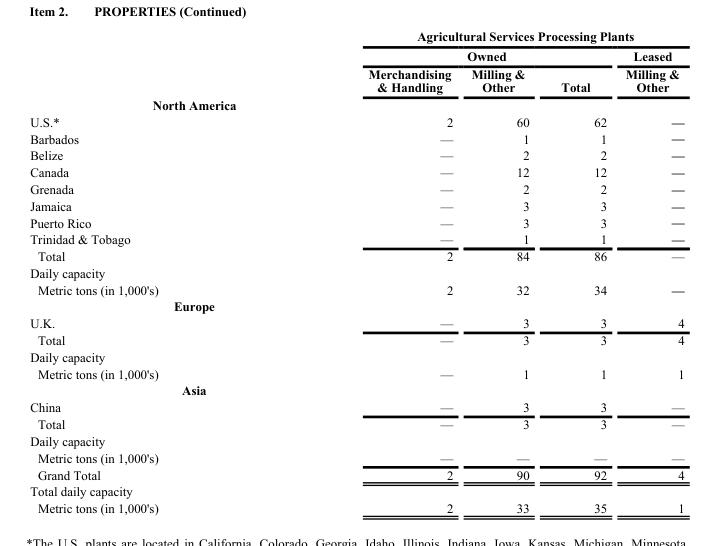table: (29, 28, 683, 514)
table column: (29, 28, 262, 514), (262, 28, 461, 514), (461, 28, 544, 514), (544, 28, 615, 514), (615, 28, 683, 514)
table column header: (29, 28, 683, 95)
table projected row header: (29, 95, 683, 112), (29, 297, 683, 314), (29, 381, 683, 398), (29, 482, 683, 499), (29, 264, 683, 280), (29, 348, 683, 364), (29, 432, 683, 448)
table row: (29, 64, 683, 95), (29, 45, 683, 64), (29, 28, 683, 45), (29, 95, 683, 112), (29, 112, 683, 129), (29, 129, 683, 146), (29, 146, 683, 163), (29, 163, 683, 180), (29, 196, 683, 213), (29, 213, 683, 230), (29, 230, 683, 247), (29, 247, 683, 264), (29, 280, 683, 297), (29, 297, 683, 314), (29, 314, 683, 331), (29, 331, 683, 348), (29, 364, 683, 381), (29, 381, 683, 398), (29, 398, 683, 415), (29, 415, 683, 432), (29, 448, 683, 465), (29, 465, 683, 482), (29, 482, 683, 499), (29, 180, 683, 196), (29, 264, 683, 280), (29, 348, 683, 364), (29, 432, 683, 448), (29, 499, 683, 514)
table spanning cell: (262, 28, 683, 45), (262, 45, 615, 64), (615, 45, 683, 95)
